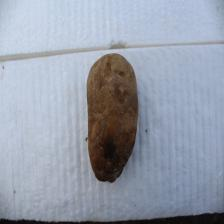Diseased-fungal potato: (83, 51, 139, 185)
